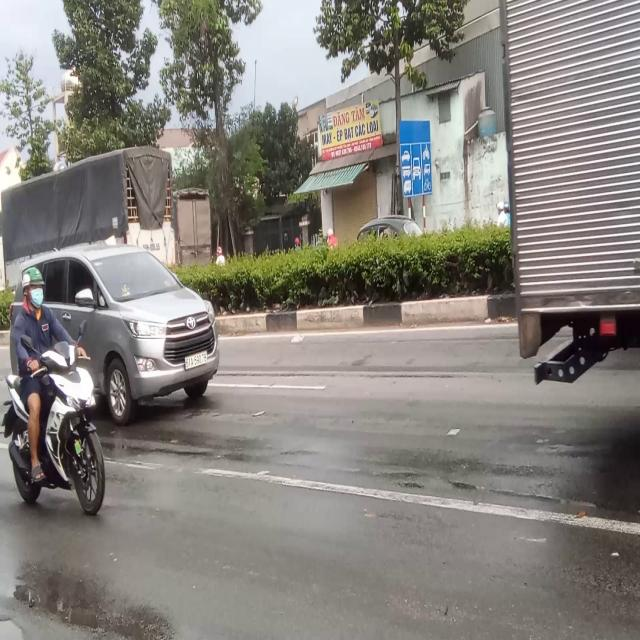bien_trang: (181, 353, 209, 373)
